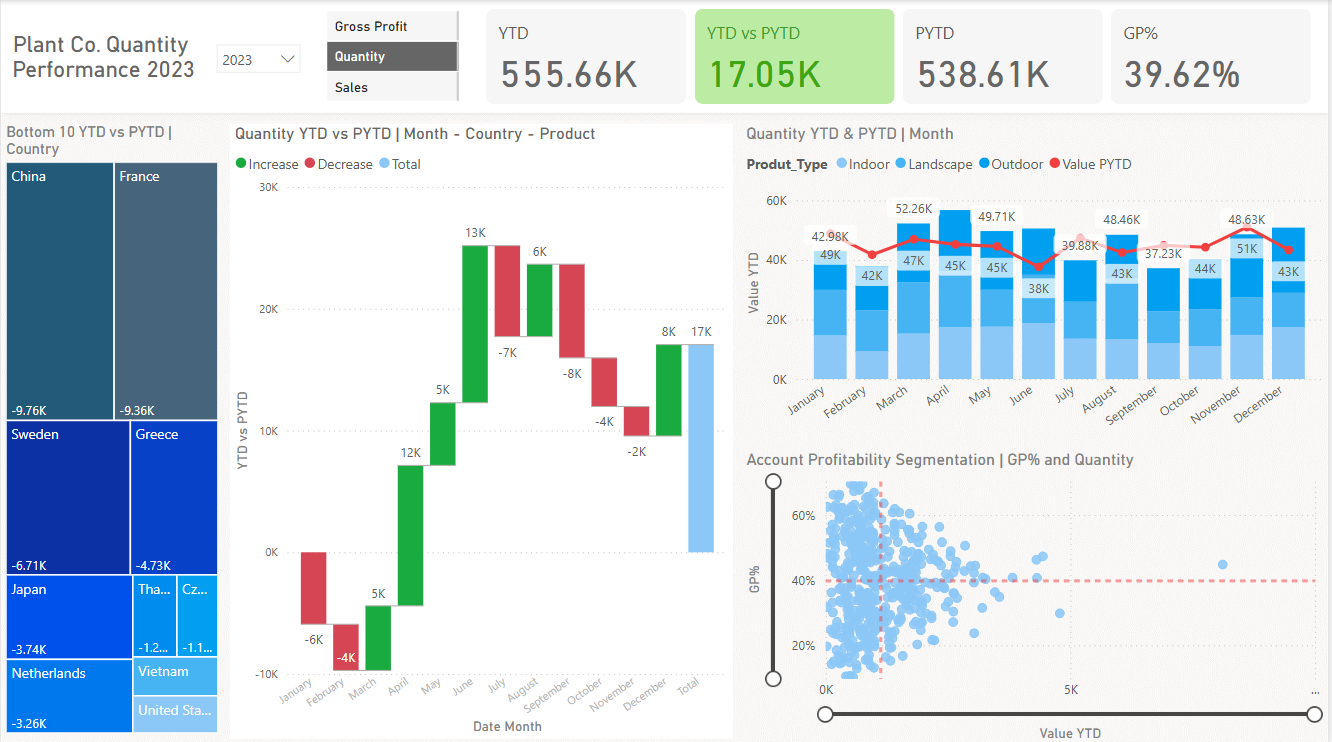

Layout of this report page (visuals, bound fields, positions):
{"tool":"powerbi","page":{"name":"Performance Report","canvas":[1280,720],"ordinal":0},"visuals":[{"type":"cardVisual","fields":{"Data":["_Measures.S_YTD","_Measures.YTD vs PYTD","_Measures.S_PYTD","_Measures.GP%"]},"box":[463,4.2,806.2,102.1],"z":0},{"type":"advancedSlicerVisual","fields":{"Values":["Slc_Values.Values"]},"box":[309.8,5.9,137.3,98],"z":1000},{"type":"slicer","fields":{"Values":["Dim_Date.Date.Variation.Date Hierarchy.Year"]},"box":[198.4,32.7,101.3,50.2],"z":2000},{"type":"treemap","title":"Bottom 10 YTD vs PYTD | Country","fields":{"Values":["_Measures.YTD vs PYTD"],"Group":["Dim_Account.country"]},"box":[0,118.7,214.6,594.4],"z":3000},{"type":"waterfallChart","fields":{"Y":["_Measures.YTD vs PYTD"],"Category":["Dim_Date.Date.Variation.Date Hierarchy.Month","Dim_Account.country","Dim_Product.Produt_Type","Dim_Product.Product_Name"]},"box":[220.3,119.6,485.2,593.5],"z":4000},{"type":"lineStackedColumnComboChart","fields":{"Y":["_Measures.S_YTD"],"Y2":["_Measures.S_PYTD"],"Category":["Dim_Date.Date.Variation.Date Hierarchy.Quarter","Dim_Date.Date.Variation.Date Hierarchy.Month"],"Series":["Dim_Product.Produt_Type"]},"box":[714.1,119.6,565.9,314.3],"z":5000},{"type":"scatterChart","fields":{"Y":["_Measures.GP%"],"X":["_Measures.S_YTD"],"Category":["Dim_Account.Account"]},"box":[714.1,433.9,565.9,285.8],"z":6000},{"type":"card","fields":{"Values":["_Measures._Report title"]},"box":[0,20.9,198.5,68.4],"z":7000}]}

Visuals, with their boxes in screenshot pixels (x1, y1, x2, y2), scaled from the page's 1280x720 canvas onto the 1332x742 screenshot:
cardVisual - _Measures.S_YTD x _Measures.YTD vs PYTD: region(482, 4, 1321, 110)
advancedSlicerVisual - Slc_Values.Values: region(322, 6, 465, 107)
slicer - Dim_Date.Date.Variation.Date Hierarchy.Year: region(206, 34, 312, 85)
"Bottom 10 YTD vs PYTD | Country" treemap: region(0, 122, 223, 735)
waterfallChart - _Measures.YTD vs PYTD x Dim_Date.Date.Variation.Date Hierarchy.Month: region(229, 123, 734, 735)
lineStackedColumnComboChart - _Measures.S_YTD x _Measures.S_PYTD: region(743, 123, 1331, 447)
scatterChart - _Measures.GP% x _Measures.S_YTD: region(743, 447, 1331, 741)
card - _Measures._Report title: region(0, 22, 207, 92)
